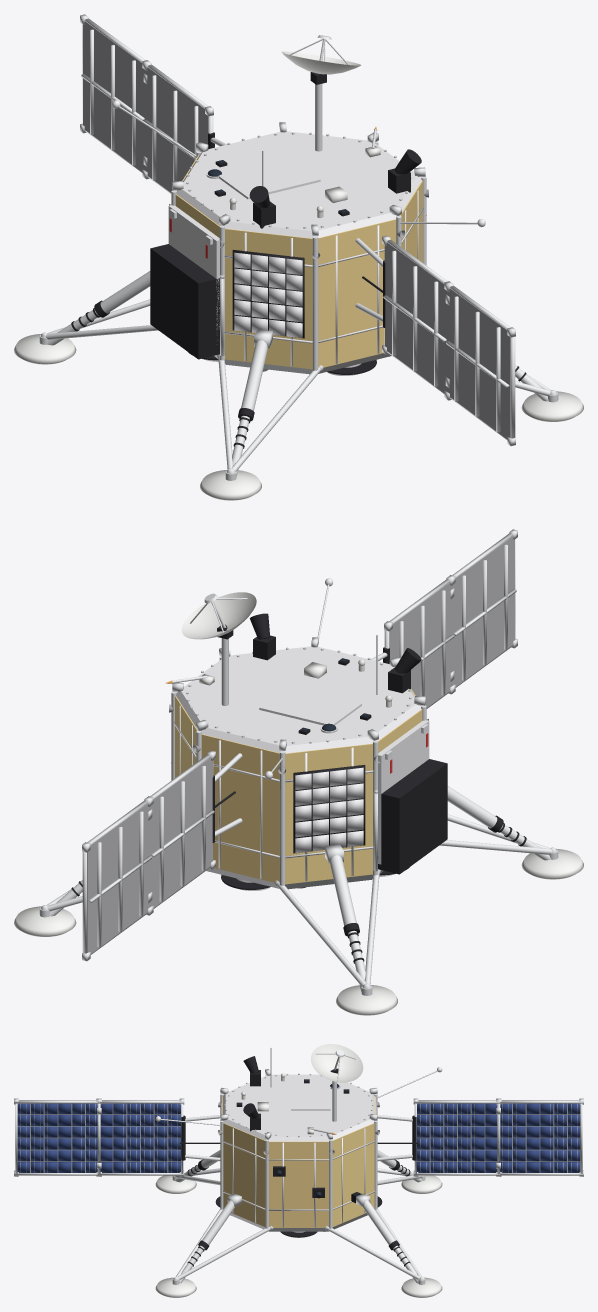
Rendered from lander_B.glb.
The picture shows the model from 3 angles, top to bottom: view 1: azimuth 30°, elevation 25°; view 2: azimuth 150°, elevation 25°; view 3: azimuth 270°, elevation 25°; orthographic projection. The views are drawn at different scales.
Visible parts, largest first — view 1: deck_body, top_radiator, rover_bay_cutter, wing_starboard_panel2_substrate, wing_starboard_panel1_substrate, wing_port_panel2_substrate, radiator_osr_tiles, wing_port_panel1_substrate, corner_longerons, radiator_fins, ramp_panel, mli_seams_tape (+19 smaller); view 2: top_radiator, deck_body, rover_bay_cutter, wing_port_panel2_substrate, wing_starboard_panel2_substrate, wing_port_panel1_substrate, radiator_osr_tiles, wing_starboard_panel1_substrate, corner_longerons, radiator_fins, ramp_panel, antenna_dish (+19 smaller); view 3: deck_body, top_radiator, wing_port_panel1_cells, wing_starboard_panel1_cells, wing_port_panel2_cells, wing_starboard_panel2_cells, corner_longerons, antenna_dish, mli_seams_tape, wing_port_panel1_substrate, wing_starboard_panel1_substrate, wing_port_panel2_substrate (+20 smaller).
Boxes of the visible parts, <box> form: deck_body: <box>175,155,422,369</box>; top_radiator: <box>176,131,421,238</box>; rover_bay_cutter: <box>150,244,219,359</box>; wing_starboard_panel2_substrate: <box>448,288,510,438</box>; wing_starboard_panel1_substrate: <box>385,242,447,392</box>; wing_port_panel2_substrate: <box>83,21,145,171</box>; radiator_osr_tiles: <box>234,252,302,338</box>; wing_port_panel1_substrate: <box>145,67,208,192</box>; corner_longerons: <box>171,122,426,370</box>; radiator_fins: <box>218,157,320,199</box>; ramp_panel: <box>168,205,219,335</box>; mli_seams_tape: <box>224,190,423,366</box>; top_radiator: <box>176,646,421,753</box>; deck_body: <box>175,689,422,884</box>; rover_bay_cutter: <box>378,759,447,874</box>; wing_port_panel2_substrate: <box>87,803,149,953</box>; wing_starboard_panel2_substrate: <box>452,536,514,686</box>; wing_port_panel1_substrate: <box>150,757,212,907</box>; radiator_osr_tiles: <box>295,767,363,853</box>; wing_starboard_panel1_substrate: <box>389,582,452,707</box>; corner_longerons: <box>171,637,426,885</box>; radiator_fins: <box>259,686,361,725</box>; ramp_panel: <box>378,720,429,864</box>; antenna_dish: <box>181,592,256,639</box>; deck_body: <box>222,1096,375,1227</box>; top_radiator: <box>222,1074,375,1141</box>; wing_port_panel1_cells: <box>417,1103,497,1172</box>; wing_starboard_panel1_cells: <box>100,1103,180,1172</box>; wing_port_panel2_cells: <box>500,1103,580,1172</box>; wing_starboard_panel2_cells: <box>17,1103,97,1172</box>; corner_longerons: <box>220,1069,377,1228</box>; antenna_dish: <box>311,1044,363,1082</box>; mli_seams_tape: <box>221,1103,376,1227</box>; wing_port_panel1_substrate: <box>417,1103,497,1172</box>; wing_starboard_panel1_substrate: <box>100,1103,180,1172</box>; wing_port_panel2_substrate: <box>500,1103,580,1172</box>.
Bounding box in the file's own units: 3.62 × 2.86 × 7.19.
